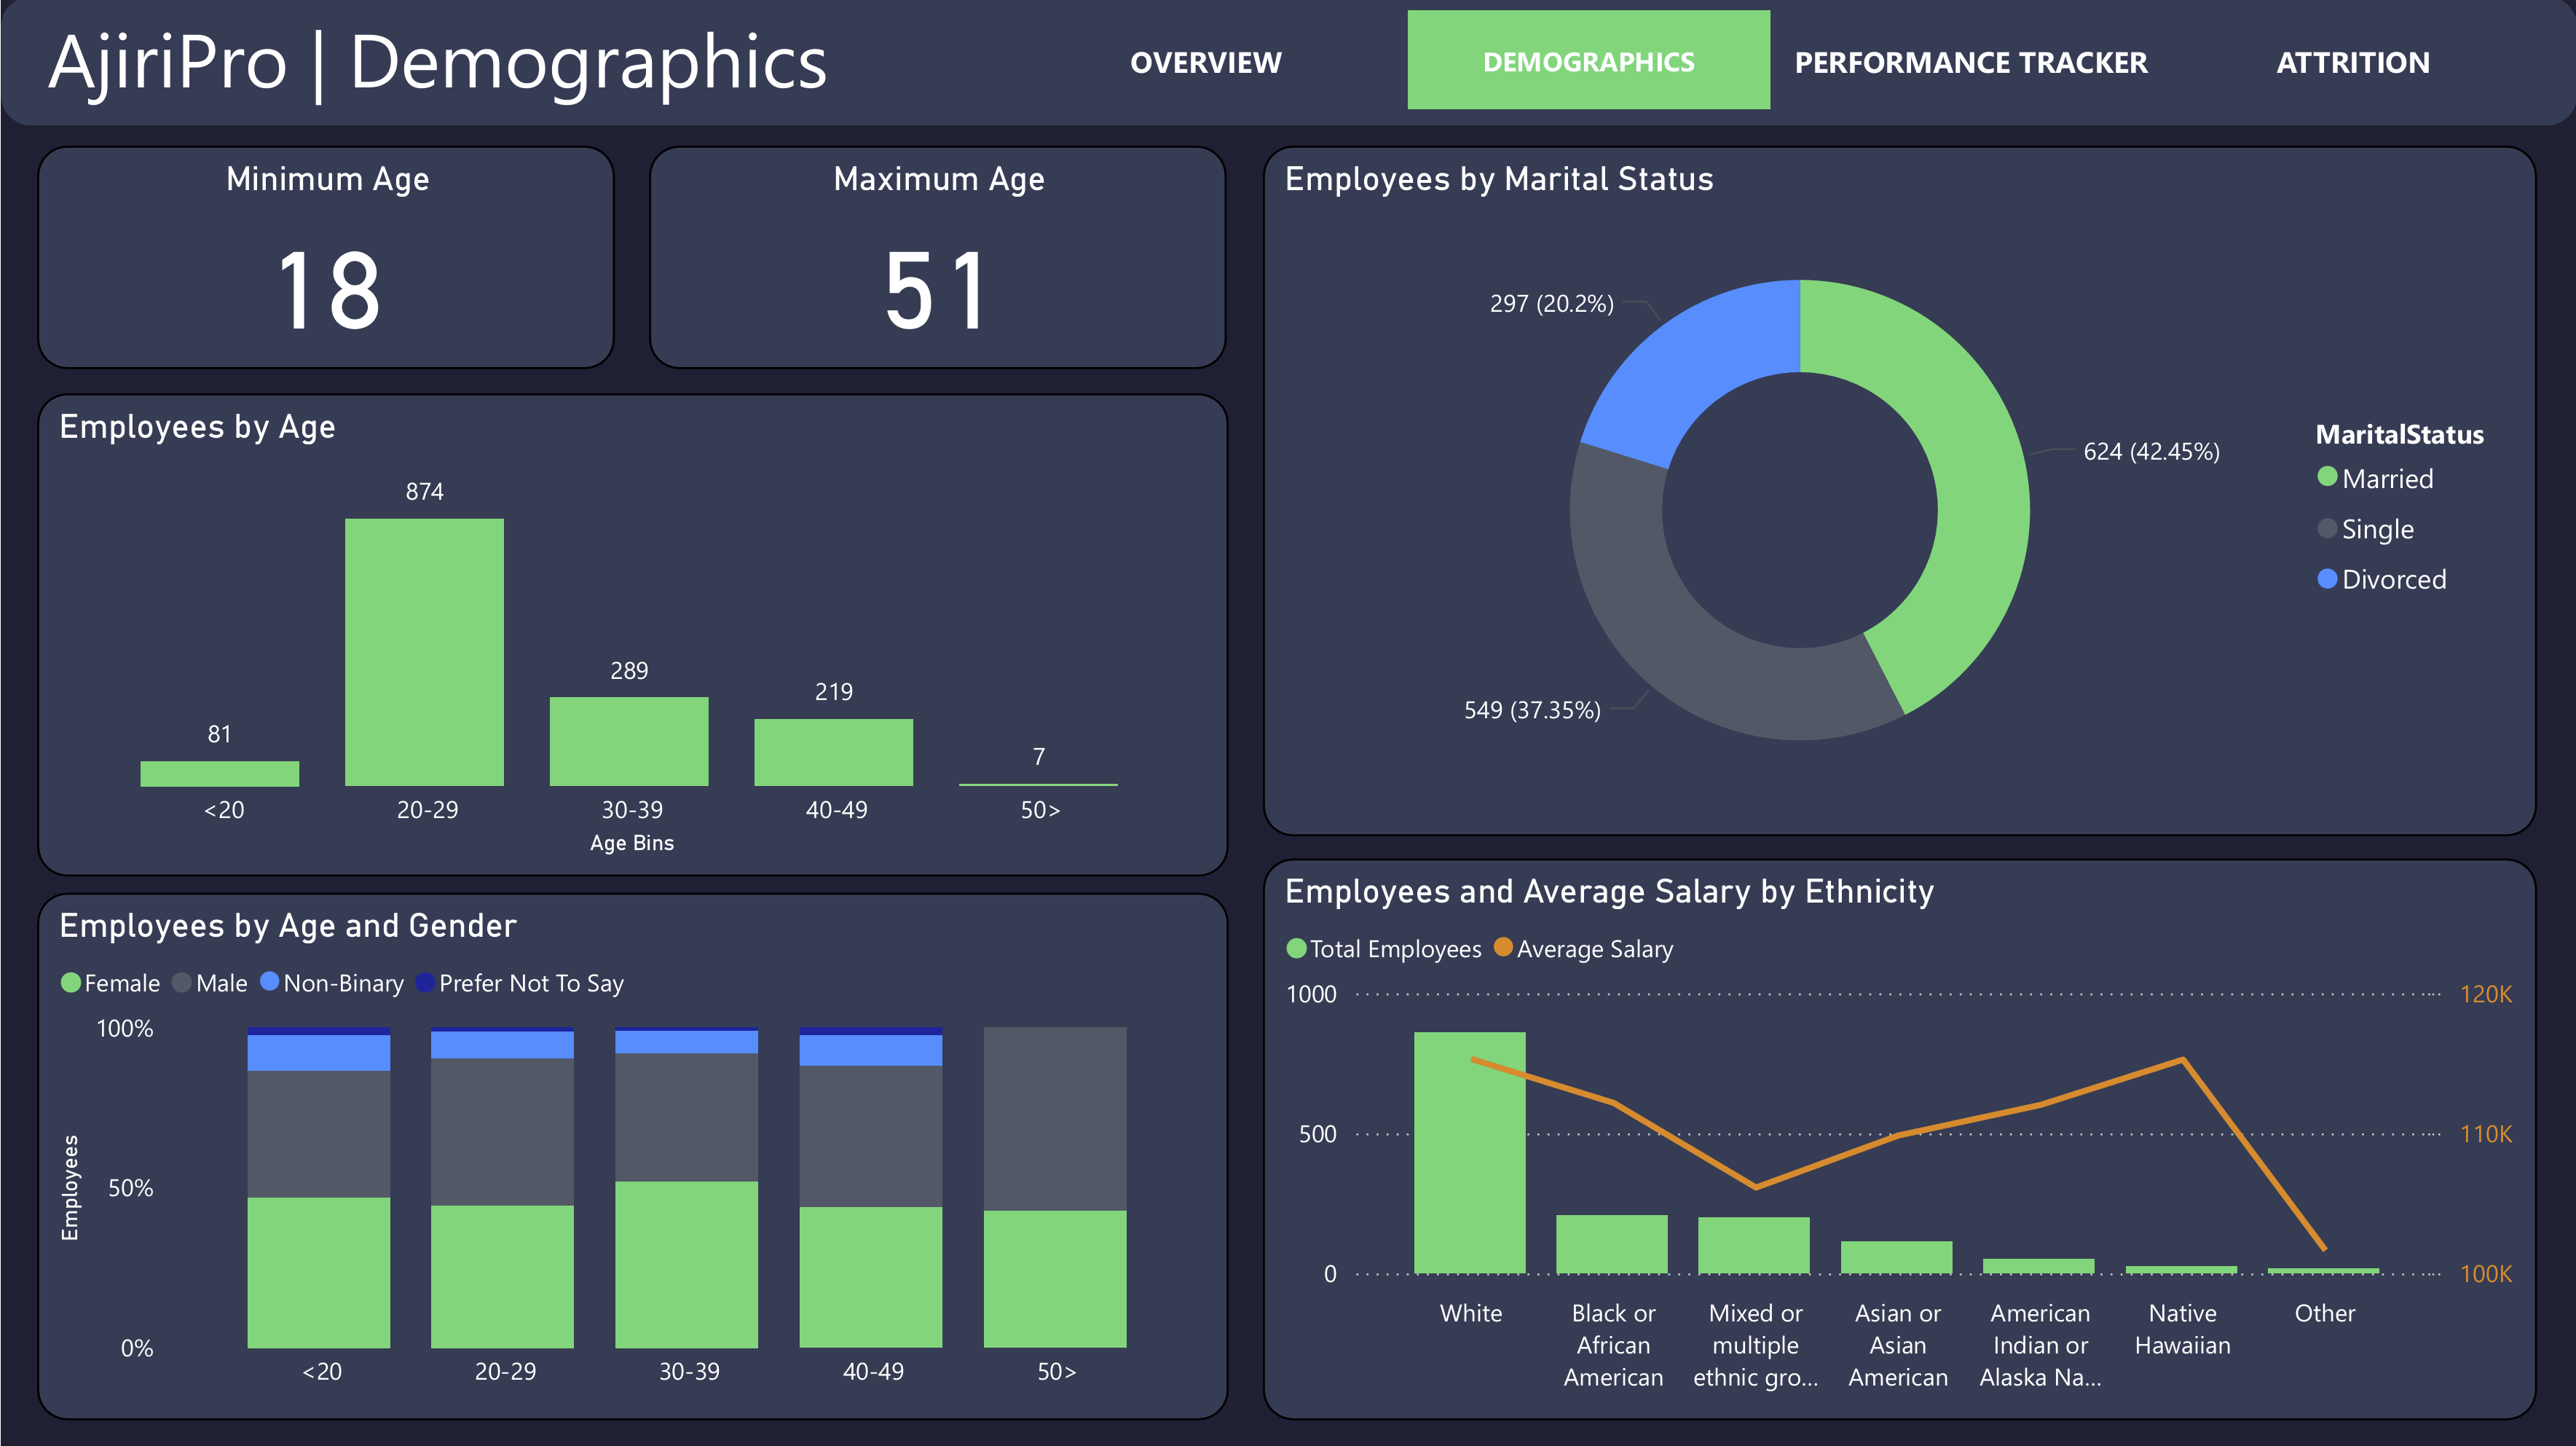

This screenshot's page, from the dashboard's own definition file:
{"tool":"powerbi","page":{"name":"DEMOGRAPHICS","canvas":[1280,720],"ordinal":1},"visuals":[{"type":"shape","box":[0,0,1280,63.9],"z":0},{"type":"textbox","box":[18.3,0,447.6,63.6],"z":1000},{"type":"pageNavigator","box":[508.7,7.3,750.8,48.9],"z":2000},{"type":"card","title":"Minimum Age","fields":{"Values":["Min(Employee.Age)"]},"box":[18.1,73.6,287.1,111],"z":3000},{"type":"card","title":"Maximum Age","fields":{"Values":["Max(Employee.Age)"]},"box":[322.1,73.6,287.1,111],"z":4000},{"type":"columnChart","title":"Employees by Age","fields":{"Category":["Employee.Age Bins"],"Y":["Calculated_Measures.Total Employees"]},"box":[18.1,196.6,592.4,240.1],"z":5000},{"type":"hundredPercentStackedColumnChart","title":"Employees by Age and Gender","fields":{"Category":["Employee.Age Bins"],"Y":["Calculated_Measures.Total Employees"],"Series":["Employee.Gender"]},"box":[18.1,445.2,592.4,261.8],"z":6000},{"type":"donutChart","title":"Employees by Marital Status","fields":{"Y":["Calculated_Measures.Total Employees"],"Category":["Employee.MaritalStatus"]},"box":[627.3,73.6,632.2,343.8],"z":7000},{"type":"lineStackedColumnComboChart","title":"Employees and Average Salary by Ethnicity","fields":{"Category":["Employee.Ethnicity"],"Y":["Calculated_Measures.Total Employees"],"Y2":["Calculated_Measures.Average Salary"]},"box":[627.3,428.3,632.2,278.7],"z":8000}]}

Visuals, with their boxes in screenshot pixels (x1, y1, x2, y2), scaled from the page's 1280x720 canvas onto the 2576x1446 screenshot:
shape: box=[0, 0, 2575, 128]
textbox: box=[37, 0, 937, 127]
pageNavigator: box=[1024, 15, 2534, 113]
"Minimum Age" card: box=[36, 148, 614, 371]
"Maximum Age" card: box=[648, 148, 1226, 371]
"Employees by Age" columnChart: box=[36, 395, 1229, 877]
"Employees by Age and Gender" hundredPercentStackedColumnChart: box=[36, 894, 1229, 1420]
"Employees by Marital Status" donutChart: box=[1262, 148, 2534, 838]
"Employees and Average Salary by Ethnicity" lineStackedColumnComboChart: box=[1262, 860, 2534, 1420]
